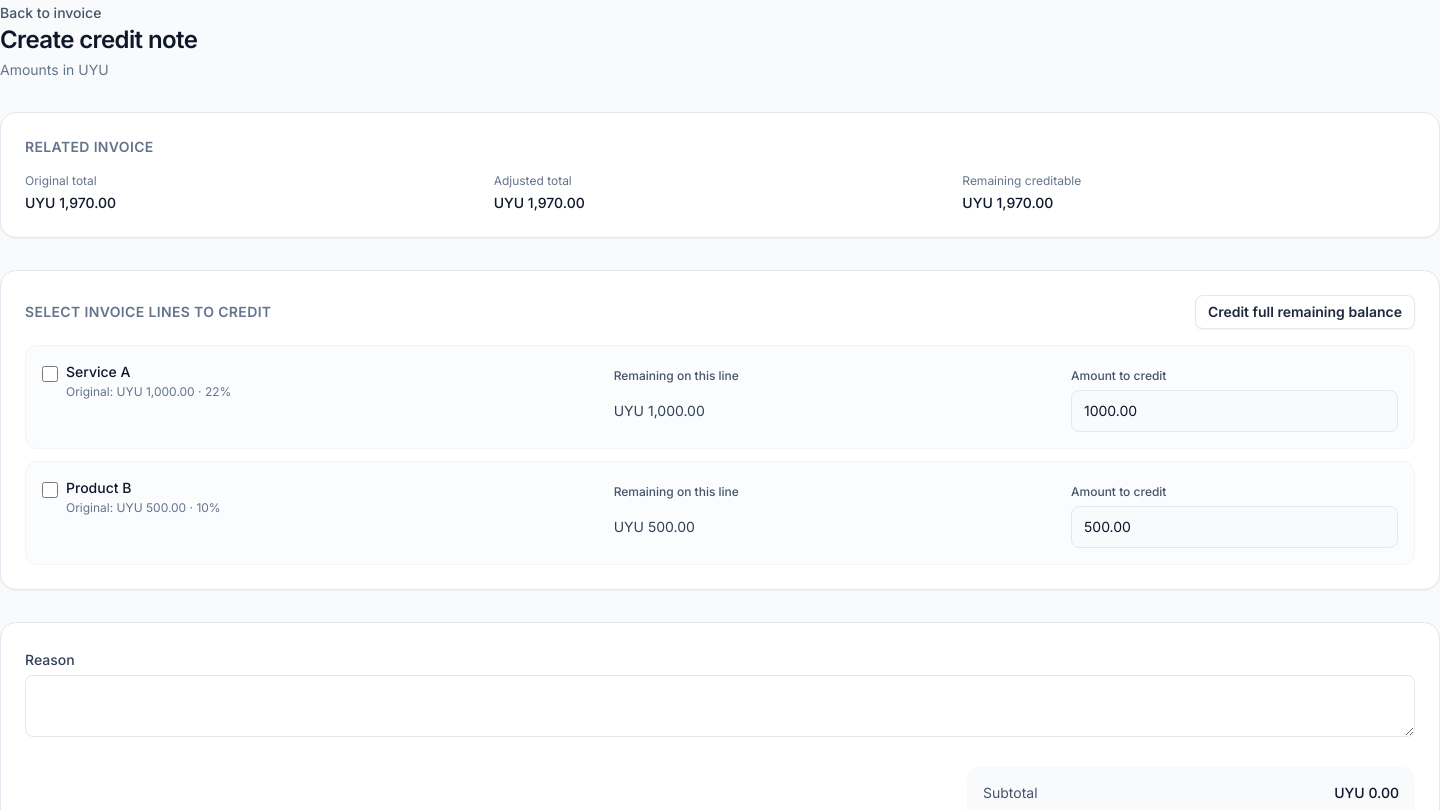
credit note creation › supports a partial credit on one line
The width and height of the screenshot is (1440, 810).
Check: the text "Service A" is shown, box [66,363,130,380]
Click the checkbox named "credit service a": (50, 374) [42,366,58,382]
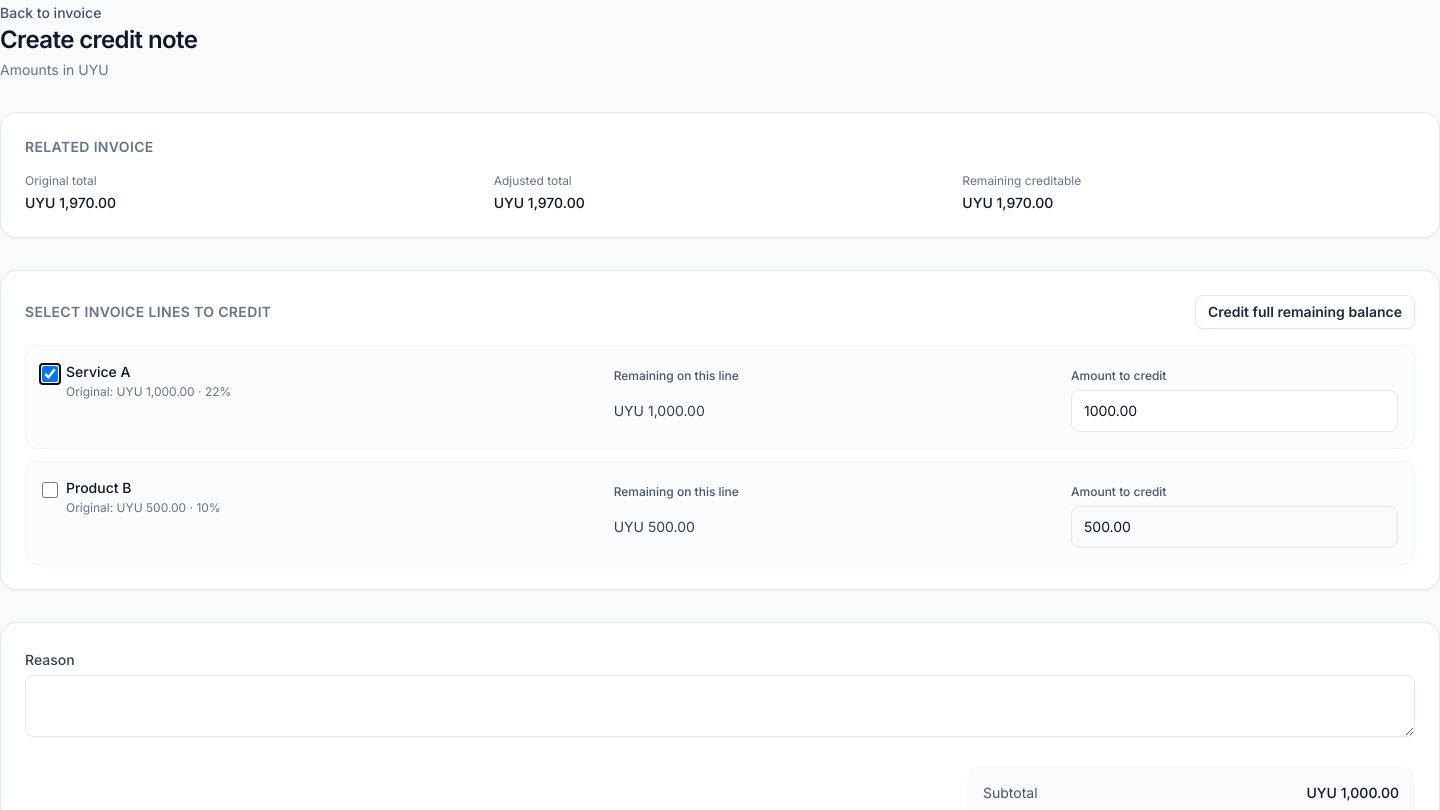
Replace the text in the number field labelled "Amount to credit" in the row of "22%" with "400": (1234, 411) [1071,390,1398,432]
(page scrolled)
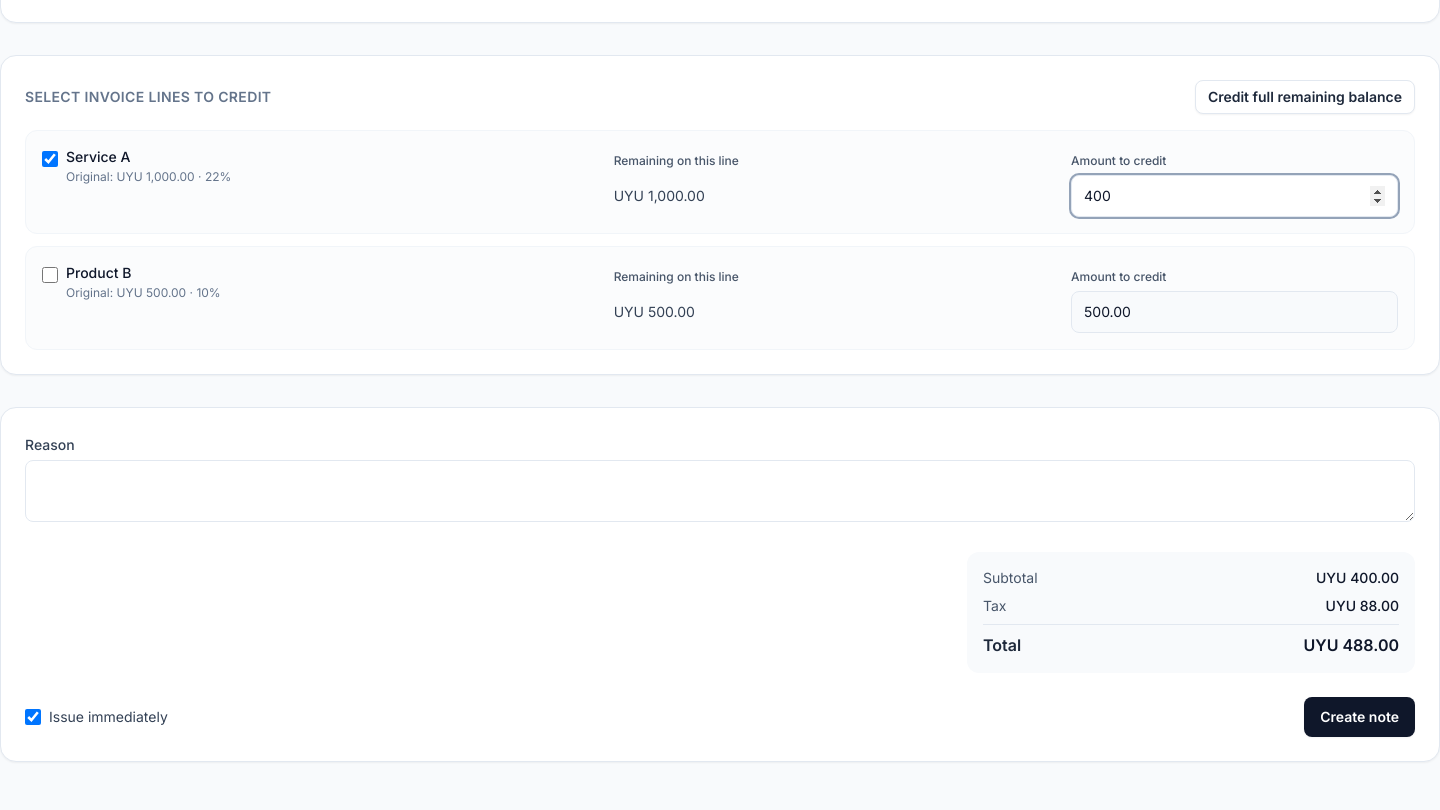
Check: the text with test id "note-total" shows "488", box [1303,635,1399,655]
